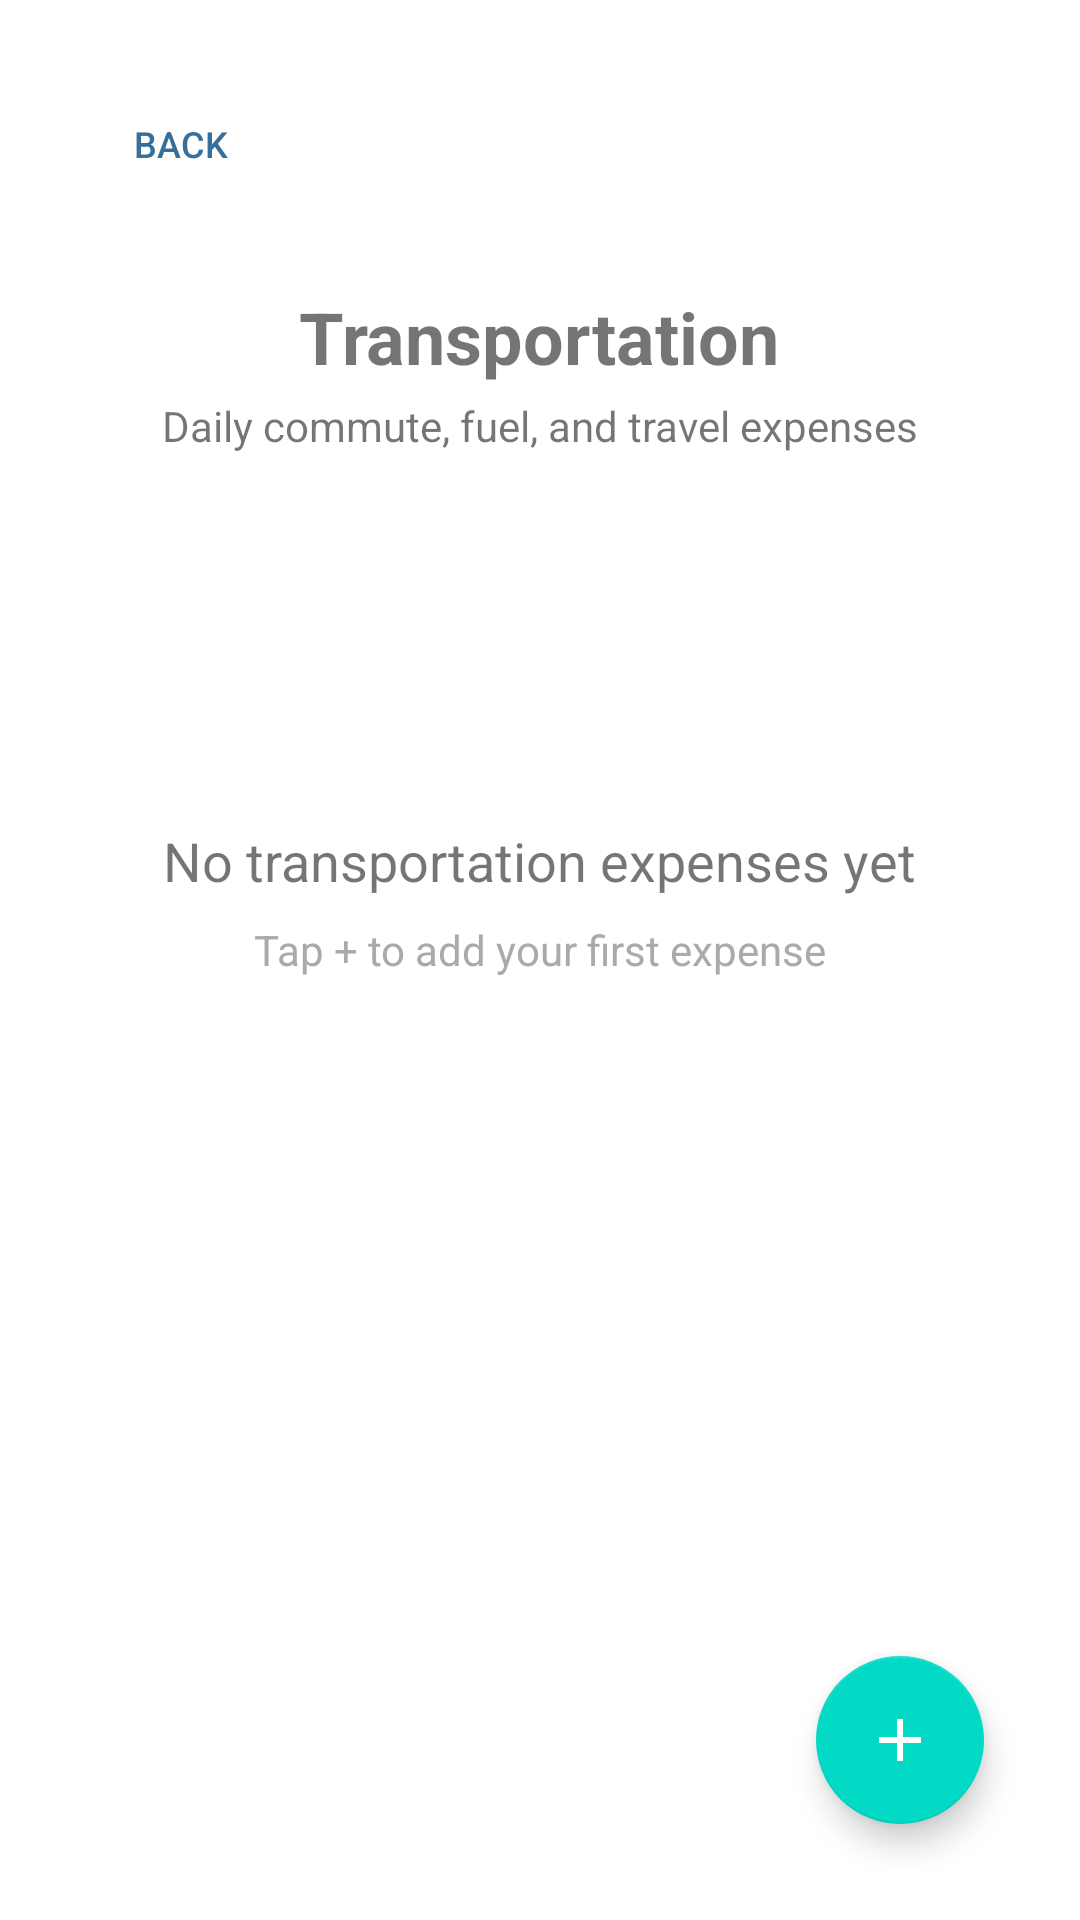

Screen size 1080px×1920px. Icon name, then its center in pixels as (x=x, y=y):
Add expense: (x=900, y=1740)
